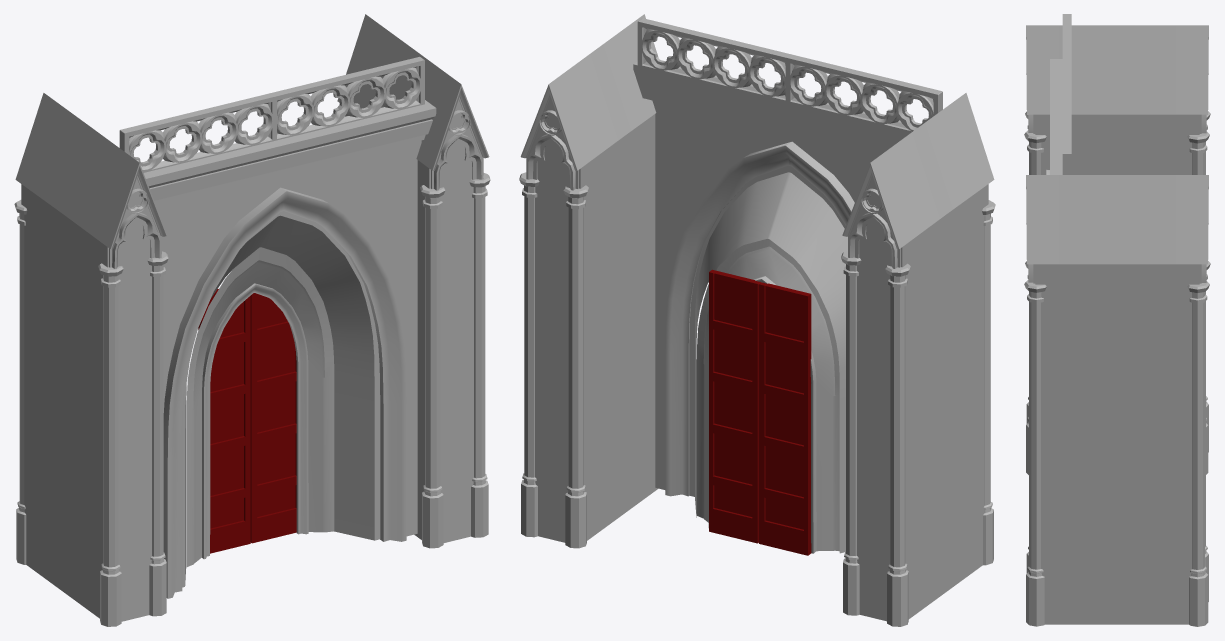
The model's file is entrance_006.glb.
3 views of the same model, side by side, from view 1: azimuth 30°, elevation 25°; view 2: azimuth 150°, elevation 25°; view 3: azimuth 270°, elevation 25° (orthographic). The views are drawn at different scales.
Visible parts, largest first — view 1: entrance_006; view 2: entrance_006; view 3: entrance_006.
Part boxes in pixels (bbox=[...]): entrance_006: bbox=[14, 14, 490, 626]; entrance_006: bbox=[519, 14, 995, 626]; entrance_006: bbox=[1024, 14, 1210, 626].
Size of the model in its own units: 1.79 by 2.07 by 0.7784.
